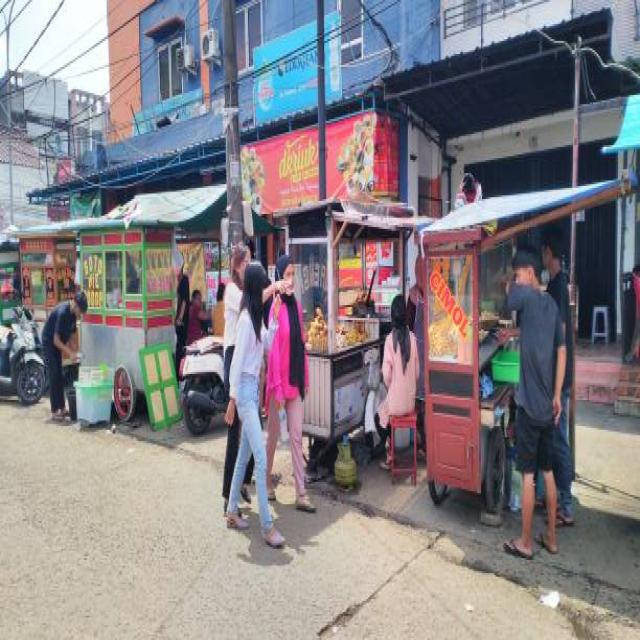Emperan: (402, 178, 632, 526), (228, 94, 412, 498), (34, 152, 226, 465)
